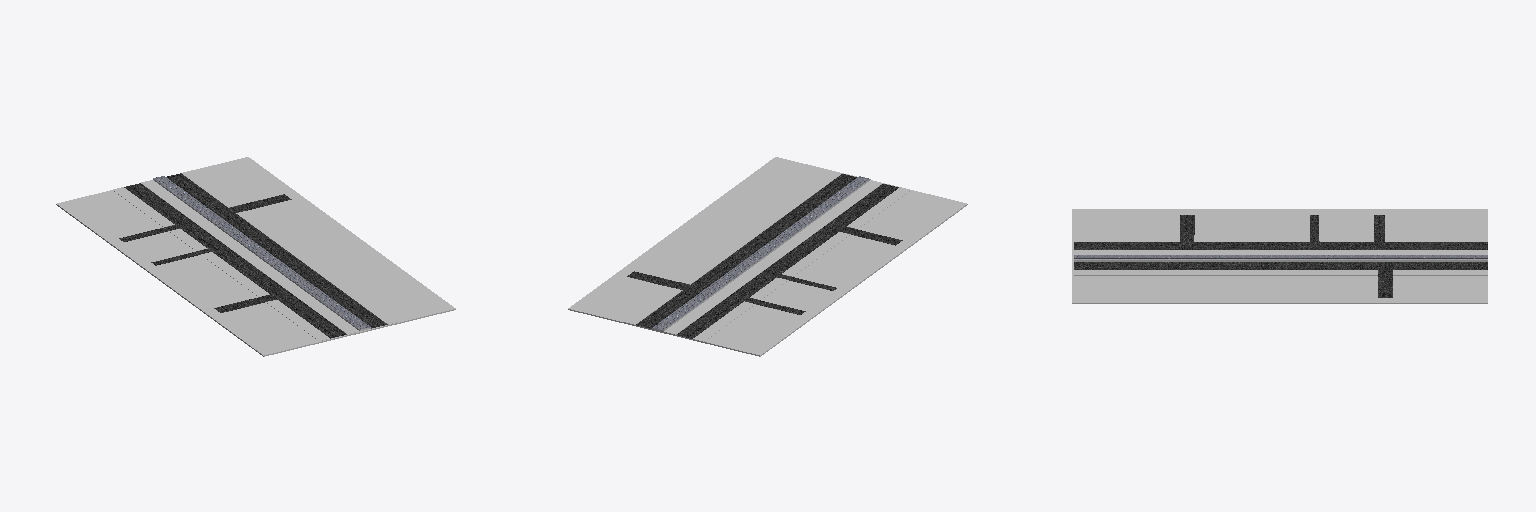
The picture shows the model from 3 angles: view 1: azimuth 30°, elevation 25°; view 2: azimuth 150°, elevation 25°; view 3: azimuth 270°, elevation 25°; orthographic projection.
Visible parts, largest first — view 1: Cube; view 2: Cube; view 3: Cube.
Part boxes in pixels (x1,y1,x2,y2): Cube: (56,157,455,356); Cube: (568,157,967,356); Cube: (1072,209,1487,303).
Bounding box in the file's own units: 322 × 4.59 × 602.
Materials: 5 (2 with a texture image).